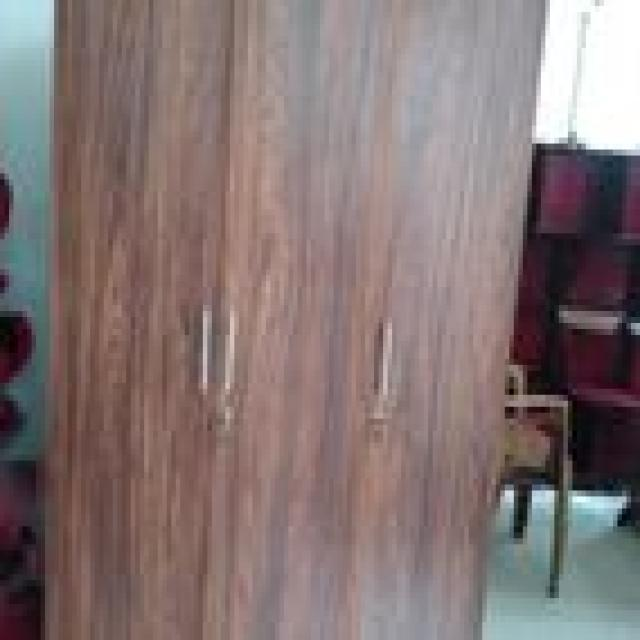others: (54, 6, 491, 640)
